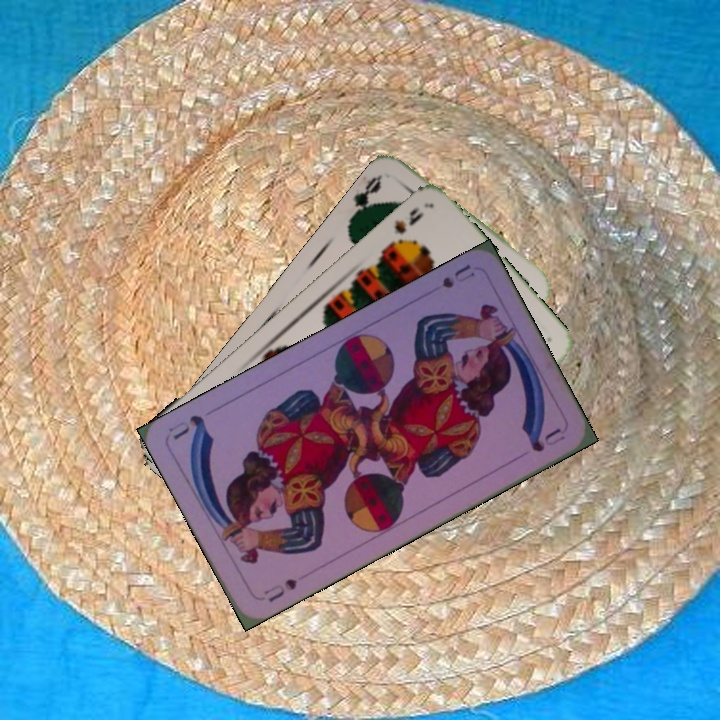GO: (345, 172, 384, 223)
S9: (382, 203, 426, 252)
SU: (438, 260, 478, 293), (259, 574, 300, 605)
